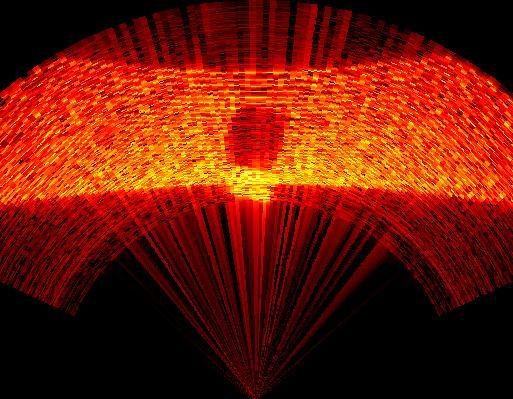box_crate: (221, 104, 292, 208)
